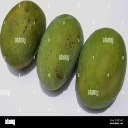mango: (36, 14, 84, 89)
